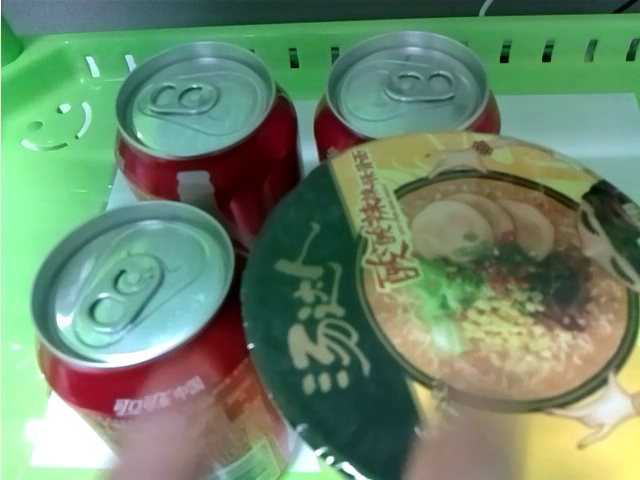cocacola: (29, 203, 302, 480), (115, 37, 301, 232), (314, 26, 503, 154)
noodles: (236, 129, 640, 480)
